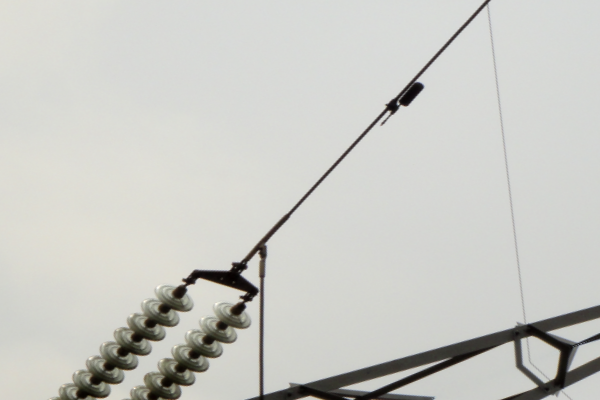damper_defect: (376, 80, 425, 129)
